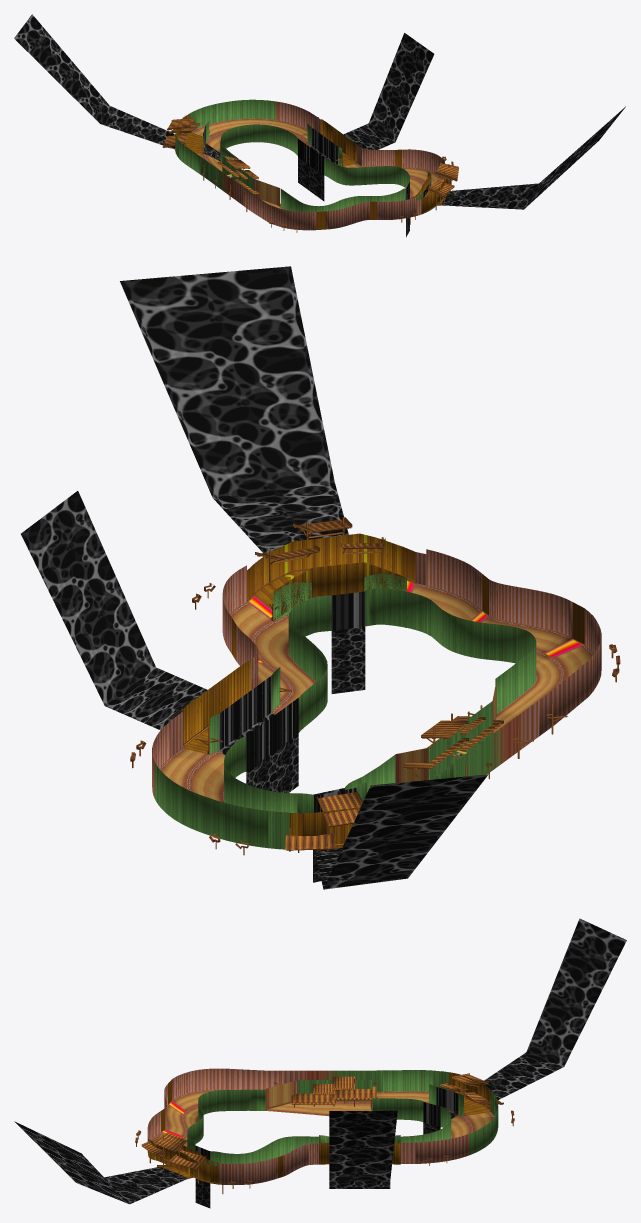
Rendered from YoshiFalls_road.glb.
The picture shows the model from 3 angles, top to bottom: view 1: azimuth 30°, elevation 25°; view 2: azimuth 150°, elevation 25°; view 3: azimuth 270°, elevation 25°; orthographic projection. The views are drawn at different scales.
Visible parts, largest first — view 1: polygon243, polygon264, polygon230, polygon201, polygon15; view 2: polygon264, polygon243, polygon230, polygon201, polygon15; view 3: polygon243, polygon264, polygon201, polygon230, polygon15.
Boxes of the visible parts, x1,y1,x2,y2 form: polygon243: (175,99,444,230); polygon264: (14,14,625,237); polygon230: (175,114,450,229); polygon201: (162,118,458,224); polygon15: (166,117,453,232); polygon264: (21,266,488,889); polygon243: (152,549,601,849); polygon230: (180,533,584,851); polygon201: (195,517,567,852); polygon15: (130,517,620,855); polygon243: (147,1068,498,1184); polygon264: (14,918,626,1208); polygon201: (141,1073,503,1193); polygon230: (148,1072,490,1184); polygon15: (135,1076,514,1188).
Bounding box in the file's own units: 858 × 275 × 983.
7 materials, 7 textured.
